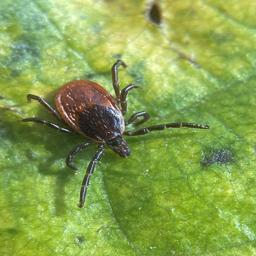Ixodes scapularis: (18, 58, 209, 208)
